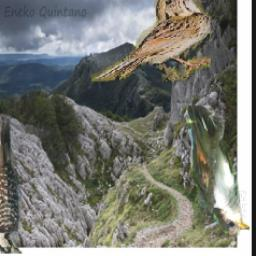Cuckoo: (187, 107, 251, 236)
Sparrow: (93, 0, 212, 82)
Woodpecker: (0, 109, 23, 255)
